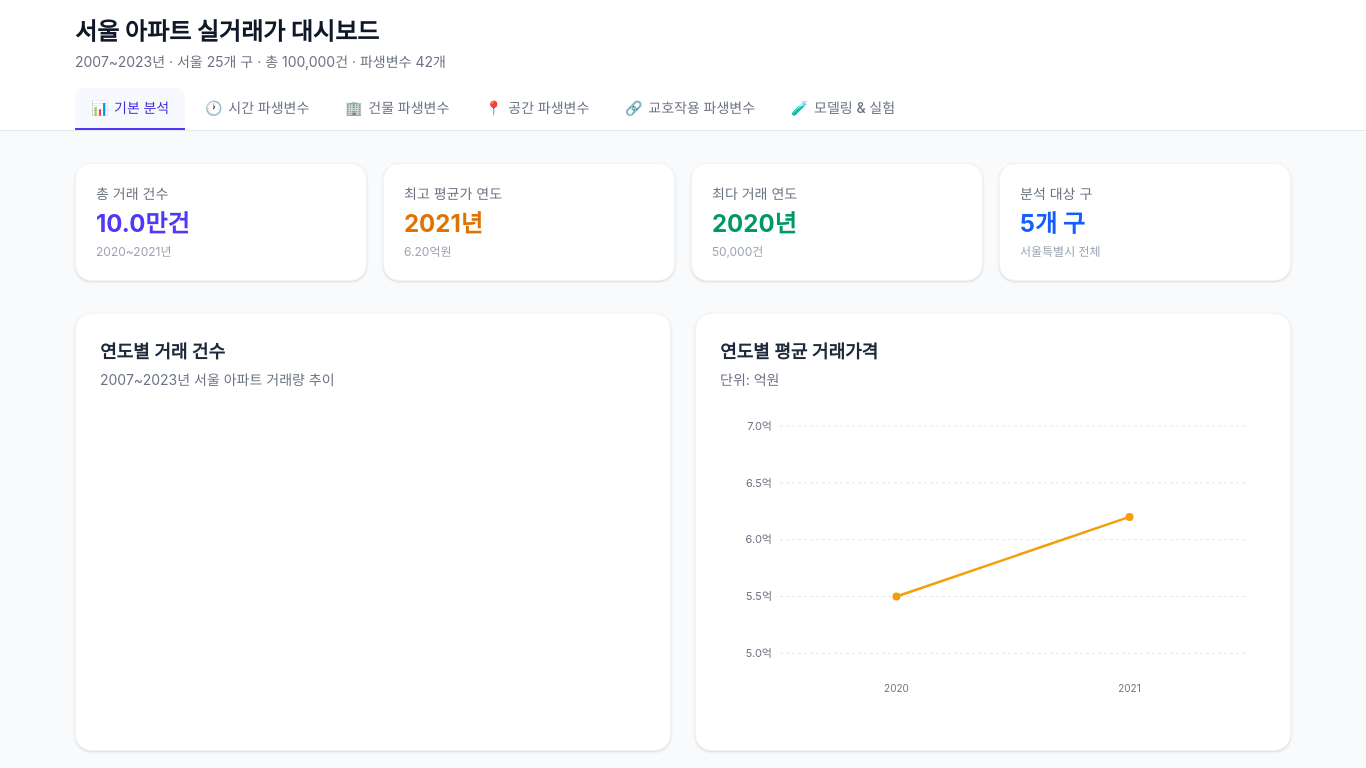
Scenario: 탭 네비게이션 (zustand) › 건물 파생변수 버튼 클릭 시 건물 페이지가 표시된다
Click the button "🏢 건물 파생변수" at (397, 109), box [329,88,465,130]
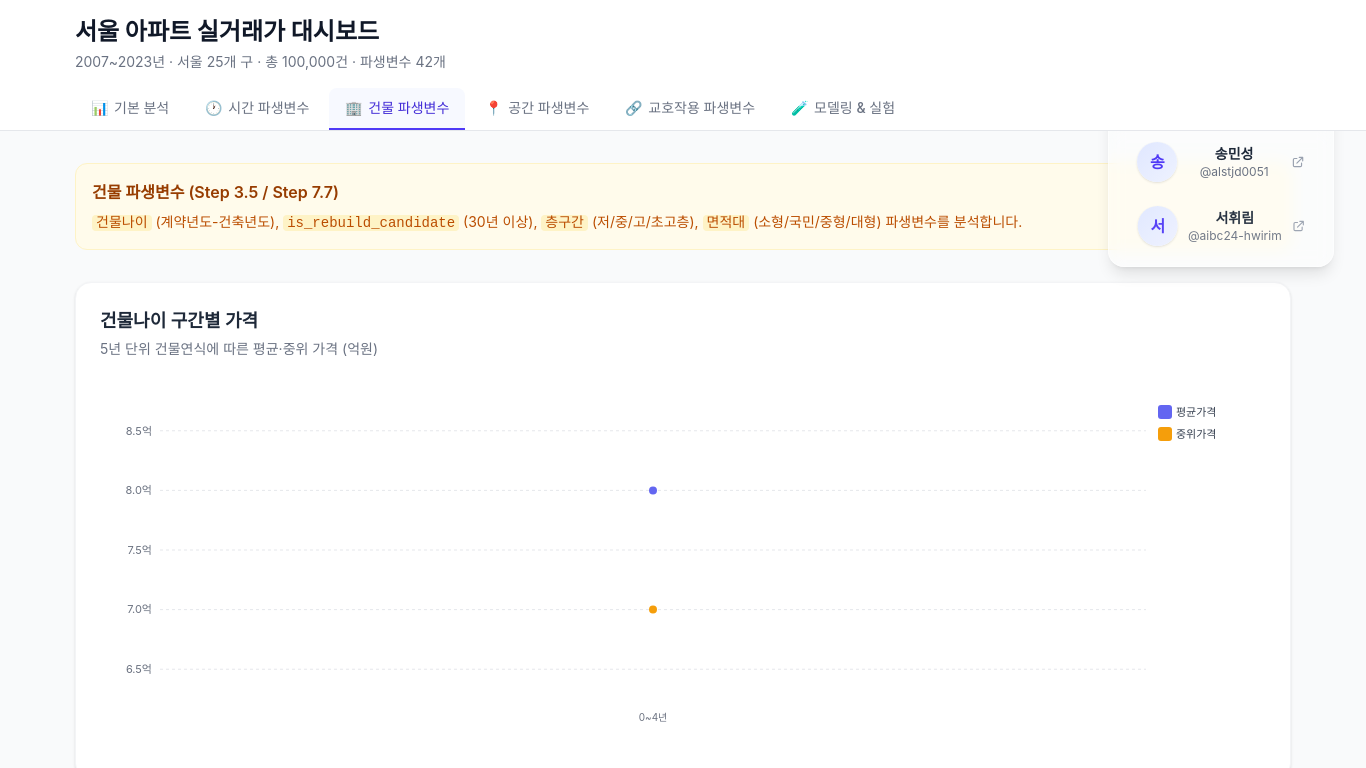
Expected: the heading "건물 파생변수 (Step 3.5 / Step 7.7)" is shown, [92,182,339,202]
